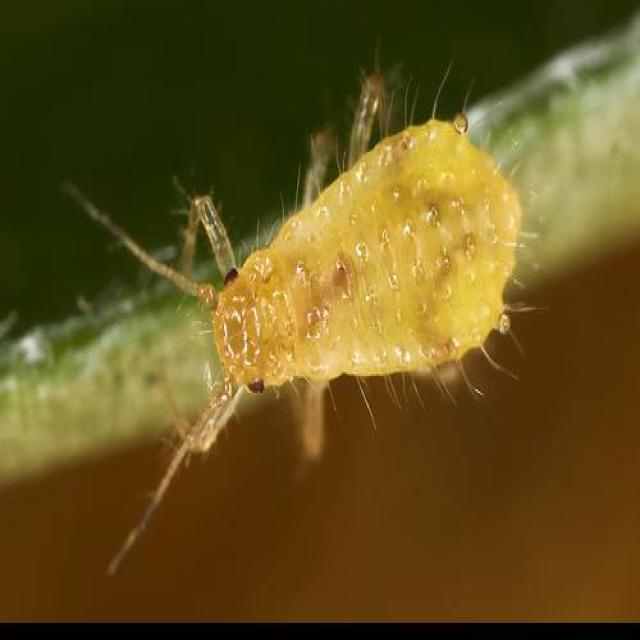Aphids: (93, 99, 530, 471)
